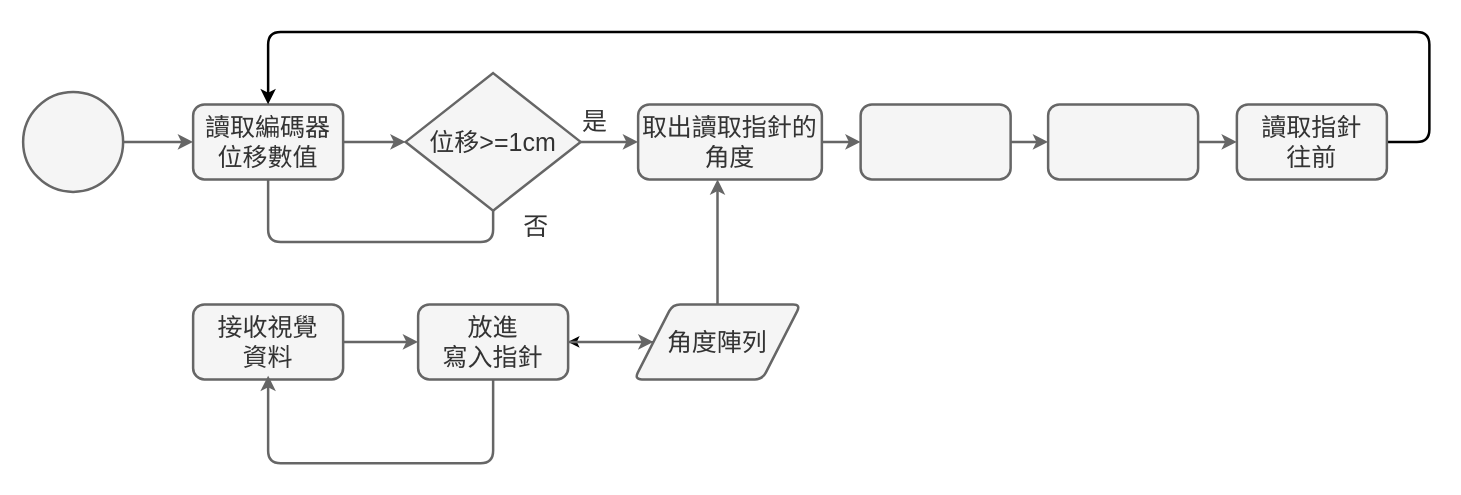
Some shapes in this 1461 by 495 pixel diagram are drawn without their labels. Here are the shapes that lost their labels. From the top down, the box of each, then its label:
(21, 90, 124, 192): 開始
(859, 102, 1011, 180): 逆向運動學轉換
(1046, 102, 1199, 180): 控制 伺服 馬達
